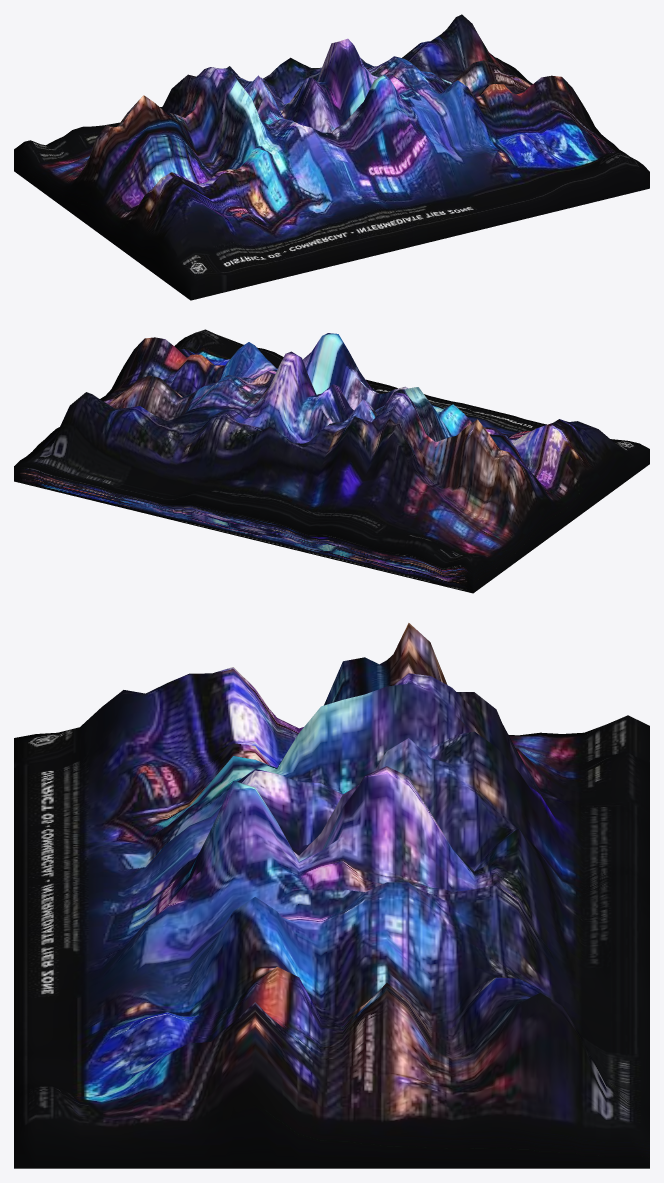
The model's file is DISTRICT_05_Commercial.glb.
The picture shows the model from 3 angles, top to bottom: view 1: azimuth 30°, elevation 25°; view 2: azimuth 150°, elevation 25°; view 3: azimuth 270°, elevation 25°; orthographic projection. The views are drawn at different scales.
Visible parts, largest first — view 1: DISTRICT_05_Commercial; view 2: DISTRICT_05_Commercial; view 3: DISTRICT_05_Commercial.
Part boxes in pixels (box(x1,y1,x2,y2)): DISTRICT_05_Commercial: box(14, 14, 649, 300); DISTRICT_05_Commercial: box(14, 329, 649, 593); DISTRICT_05_Commercial: box(14, 623, 649, 1168).
Bounding box in the file's own units: 2 × 0.51 × 1.33.
Materials: 1 (1 with a texture image).
